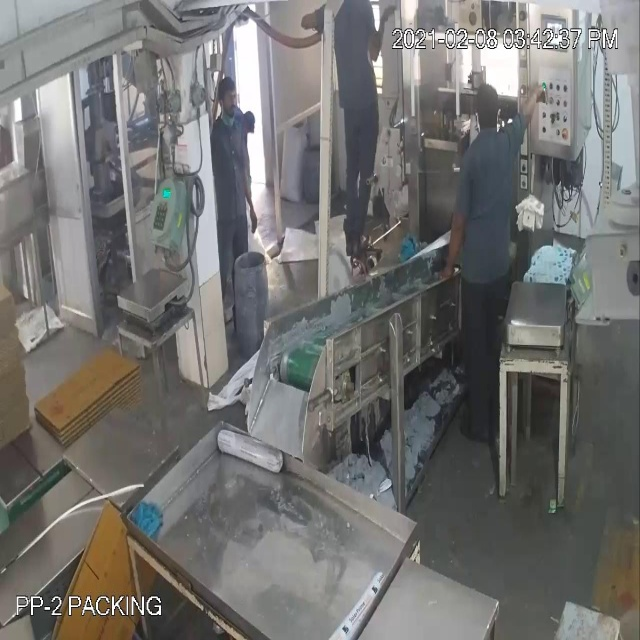Sin_guantes: (436, 211, 477, 291), (515, 77, 548, 135), (373, 4, 399, 63)
